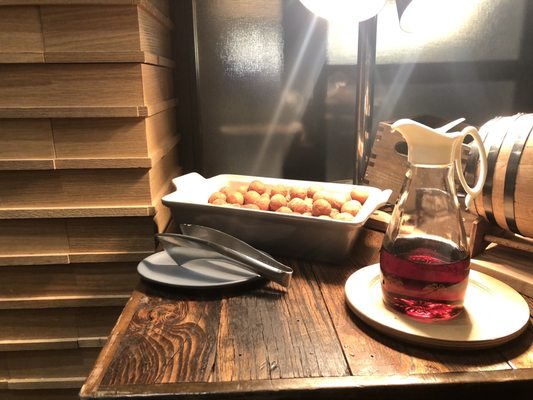sushi: (172, 176, 391, 265)
